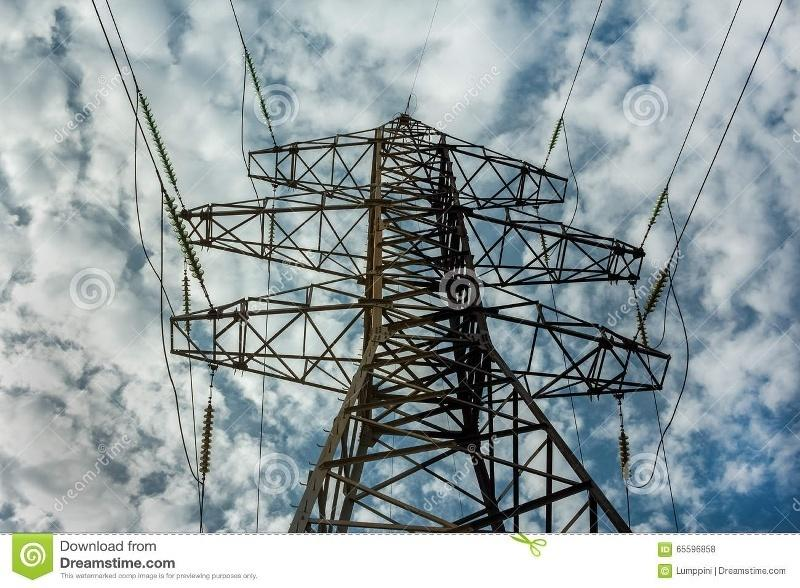power_tower: (185, 82, 654, 531)
